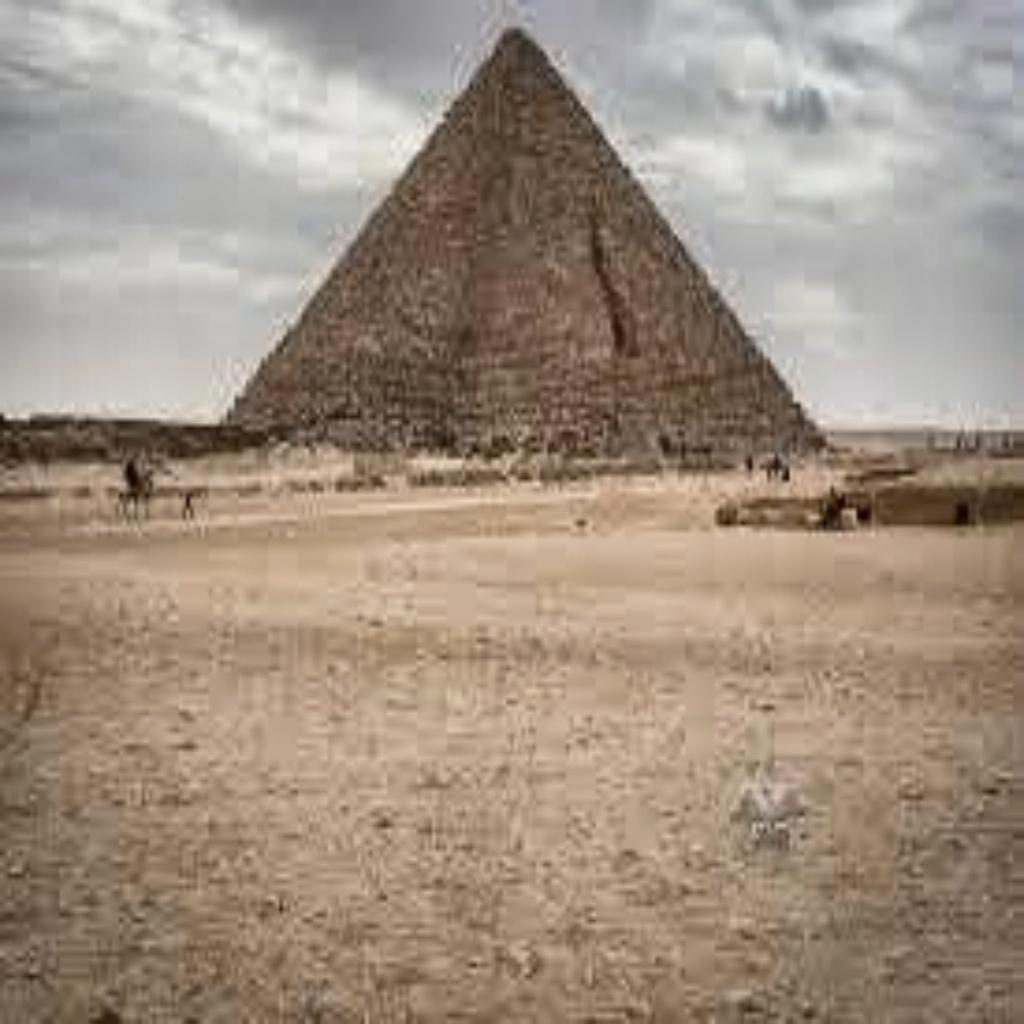Great Pyramids of Giza: (220, 22, 830, 476)
